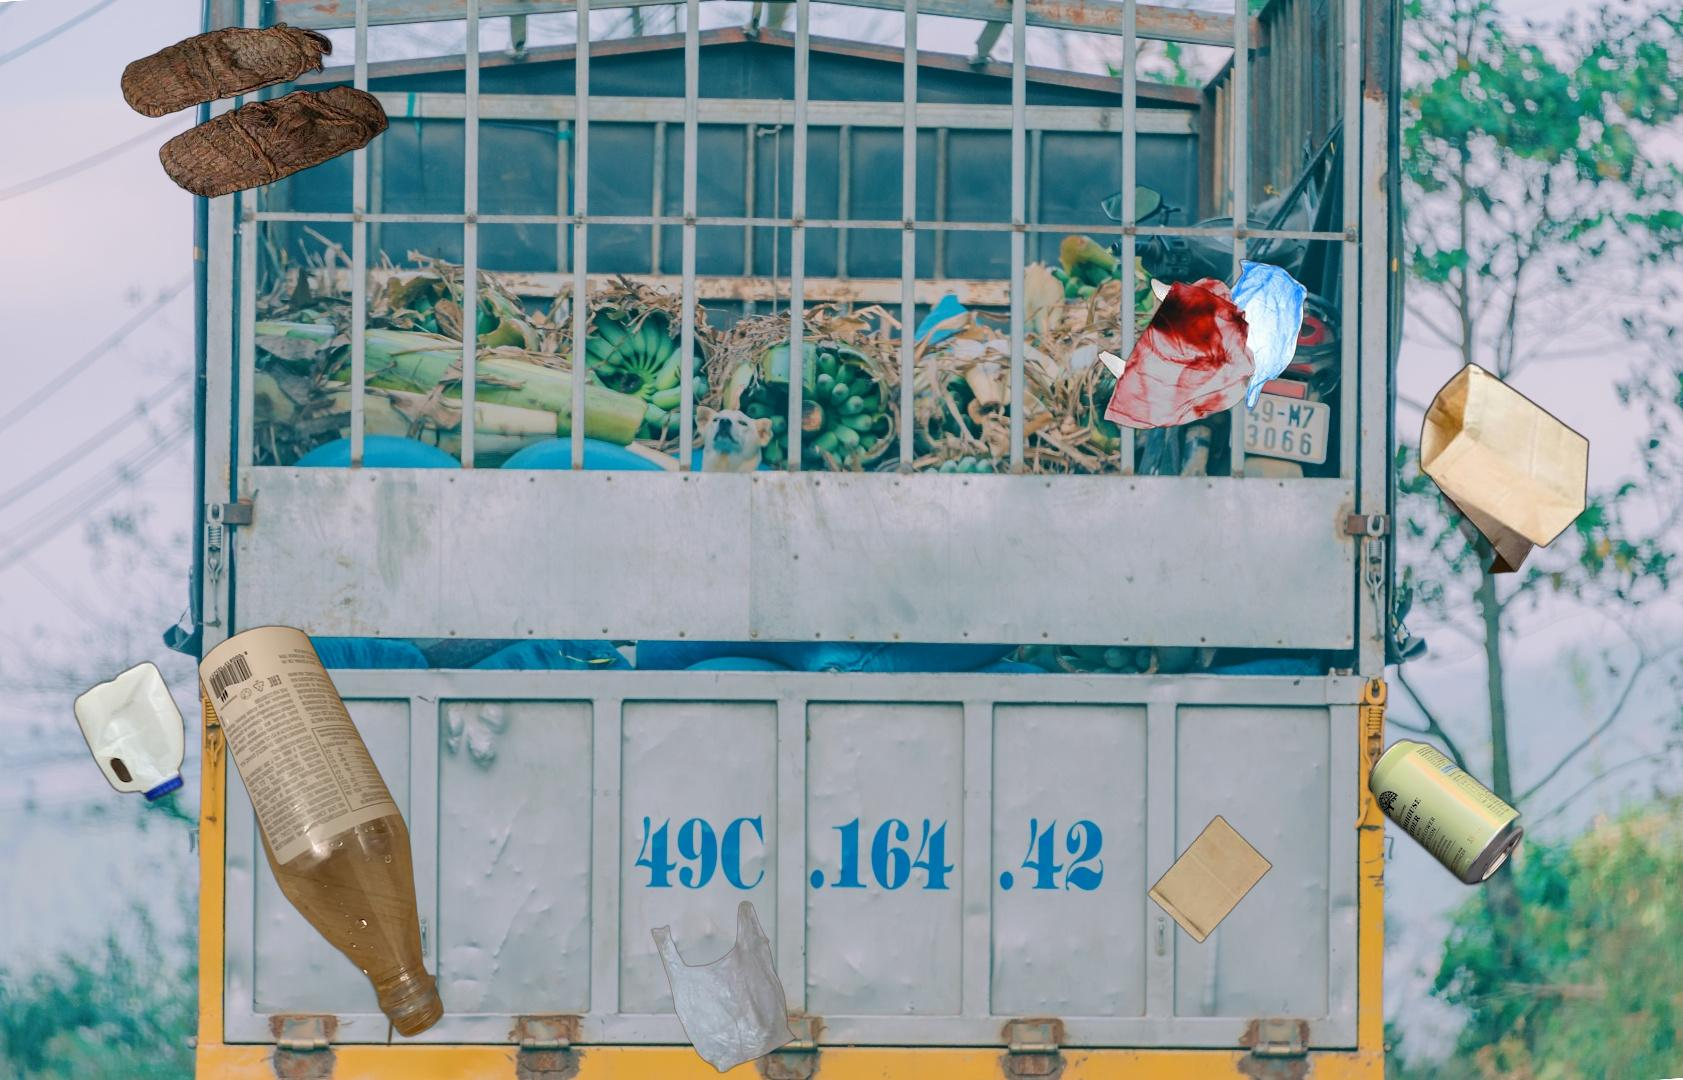metal-cans: (1363, 733, 1528, 891)
paper-bag: (1417, 361, 1591, 577), (1144, 812, 1275, 946)
plastic-bag: (1095, 256, 1310, 432), (649, 898, 799, 1076)
plastic-bottles: (195, 573, 447, 1047), (69, 657, 189, 808)
shoes: (118, 18, 393, 201)
